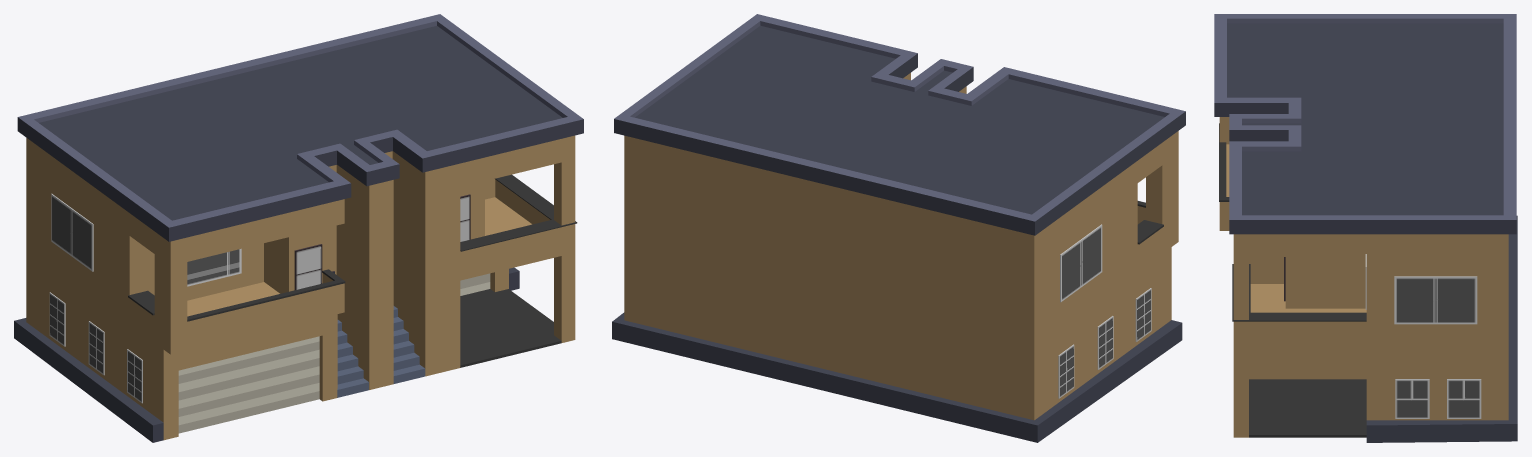
Rendered from house07_color02.fbx.
3 renders of one model, left to right at view 1: azimuth 30°, elevation 25°; view 2: azimuth 150°, elevation 25°; view 3: azimuth 270°, elevation 25°, orthographic.
Visible parts, largest first — view 1: house07_color02; view 2: house07_color02; view 3: house07_color02.
Boxes of the visible parts, box(x1,y1,x2,y2) form: house07_color02: box(14, 14, 583, 442); house07_color02: box(612, 14, 1185, 442); house07_color02: box(1214, 14, 1517, 442).
Bounding box in the file's own units: 2020 × 984 × 1226.
